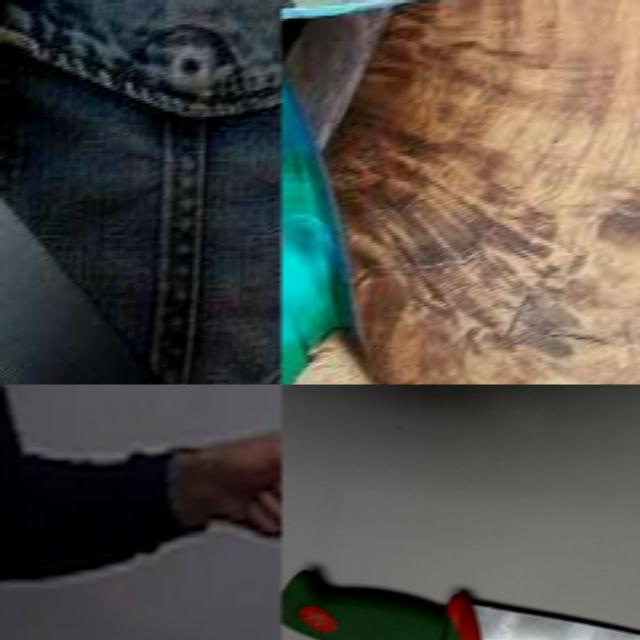Knife: (0, 198, 164, 384), (280, 569, 640, 640)
